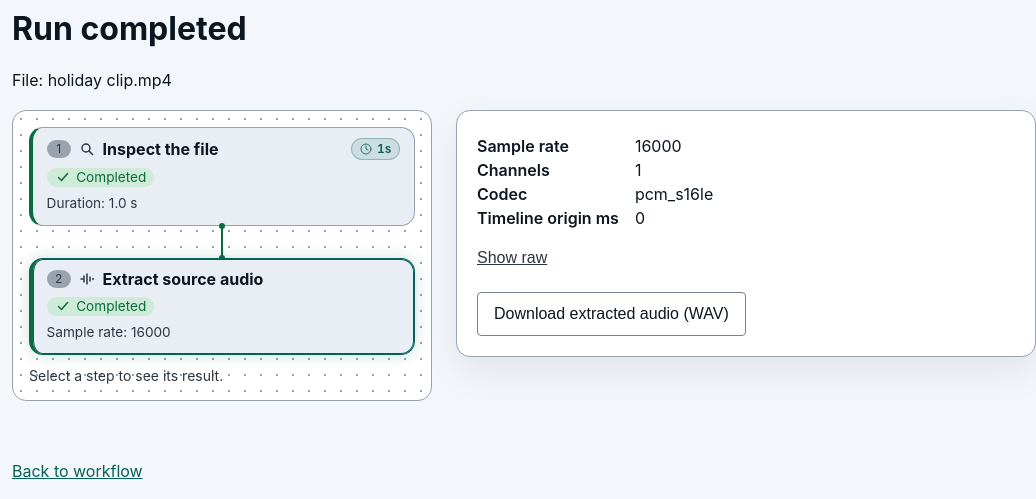
Scenario: RunProgressPage › renders metadata and WAV download button for a completed extract_audio step
This screenshot has width=1036, height=499.
Expected: the text "Sample rate" is shown, [477,136,569,156]
Expected: the text "16000" is shown, [635,136,682,156]
Click the button "1 Inspect the file Completed 1s Duration: 1.0 s" at (161, 149), box [29,127,415,226]
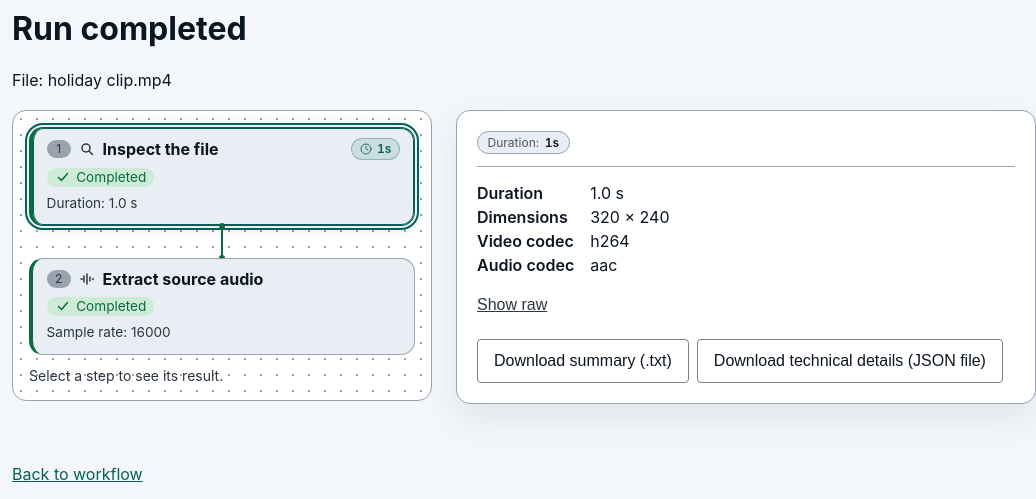
Result: the button "Download summary (.txt)" is shown at [477,339,689,383]
Result: the button "Download technical details (JSON file)" is shown at [697,339,1003,383]
